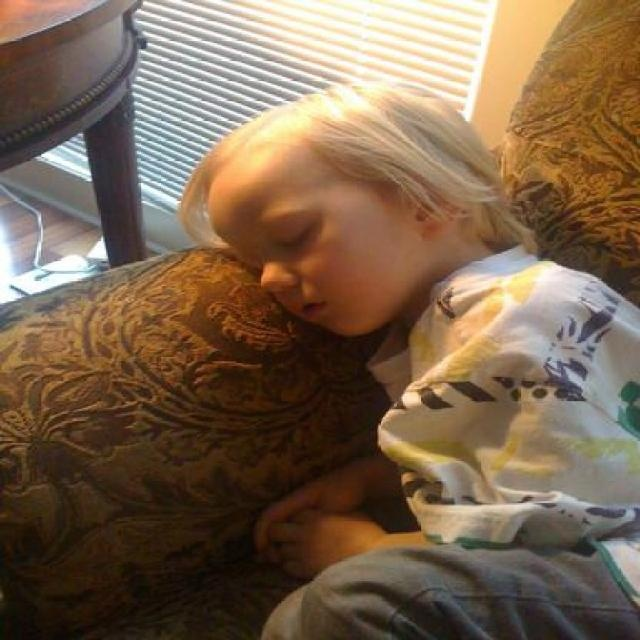obstacle: (176, 72, 639, 639)
